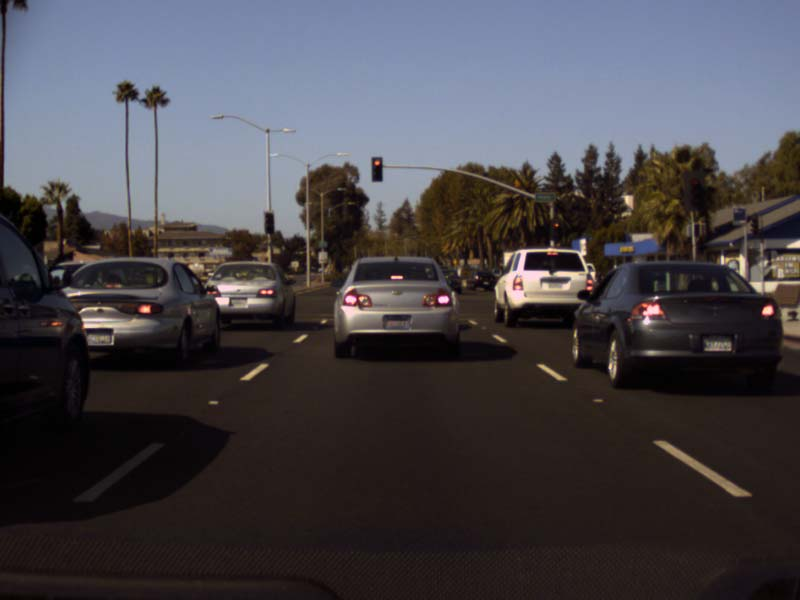Red: (689, 177, 704, 207), (371, 157, 383, 181), (552, 219, 558, 237)
